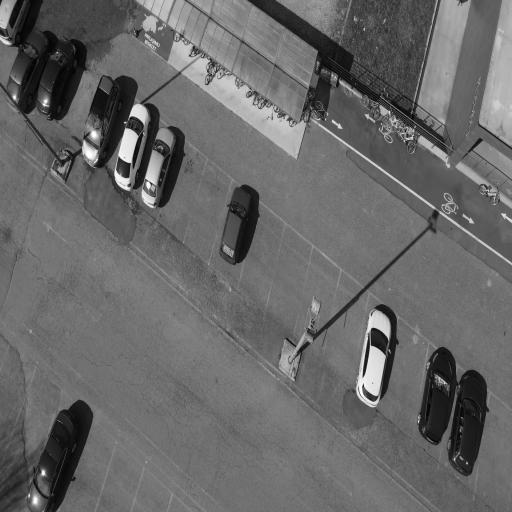car: (28, 410, 77, 511), (447, 370, 487, 475), (418, 348, 455, 444), (83, 76, 122, 167), (5, 30, 48, 111), (356, 309, 391, 407), (36, 40, 77, 119), (114, 104, 150, 190), (142, 128, 176, 208), (219, 188, 250, 264), (0, 0, 30, 45)
